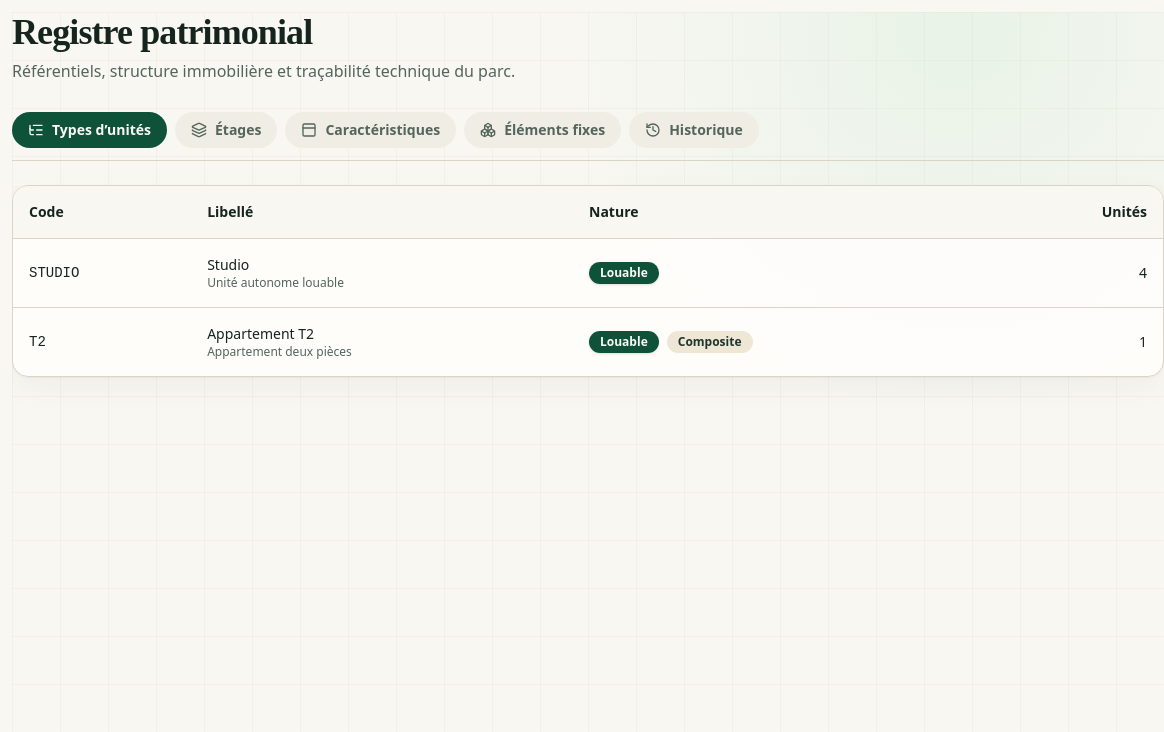
patrimoine control plane › navigates the technical registry with accessible tabs
Expected: the text "Studio" is shown, [207,255,249,274]
Click the tab "Éléments fixes".
click(543, 130)  # box [464,112,621,148]
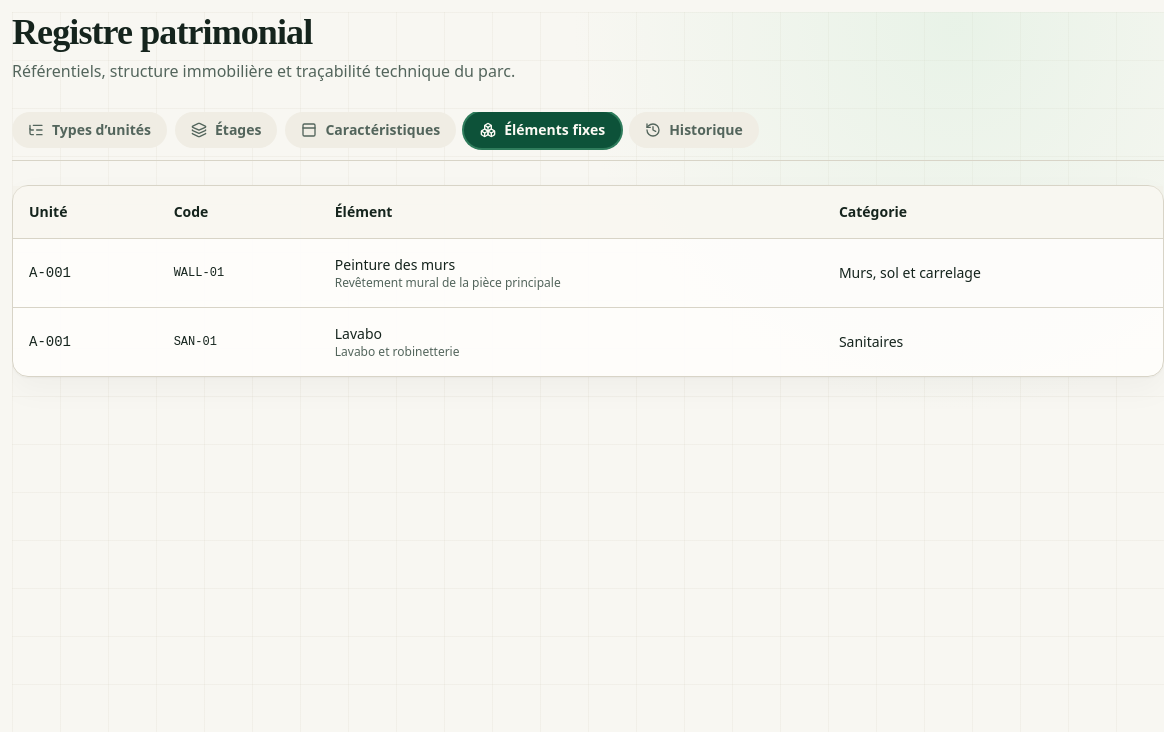
Expected: the text "Peinture des murs" is shown, [335,255,455,274]
